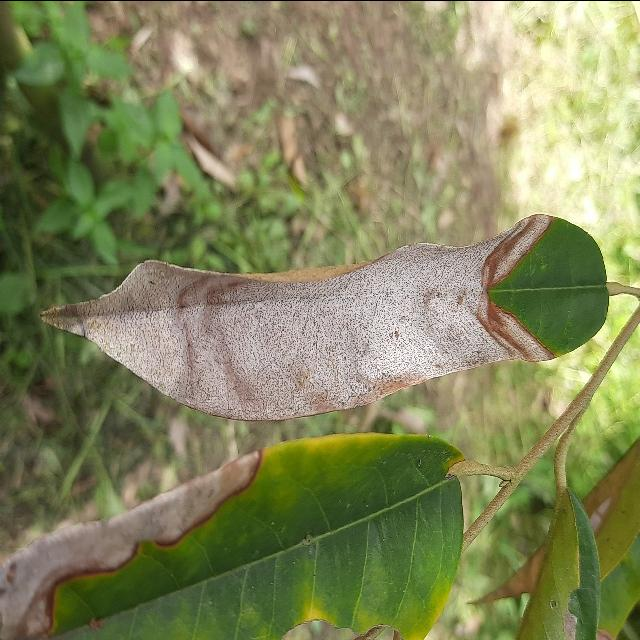Leaf Blight: (32, 209, 611, 426)
